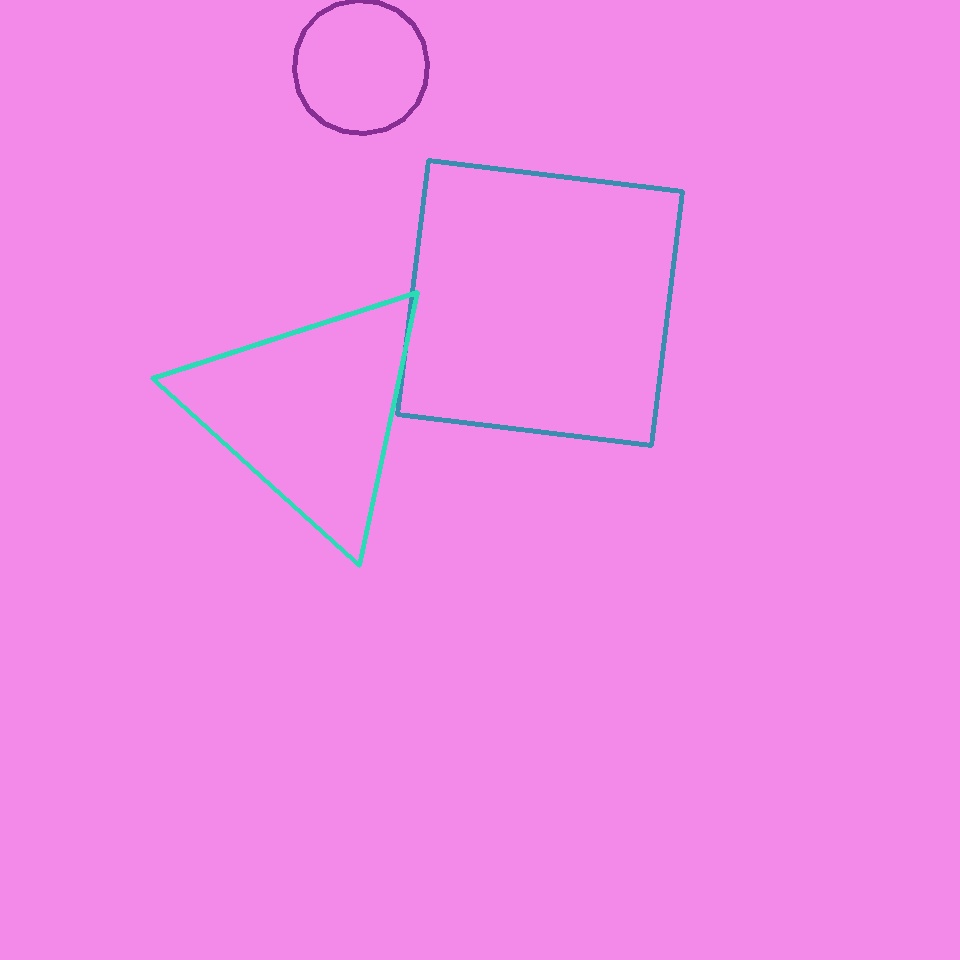circle: (178, 276, 442, 548)
square: (398, 160, 682, 446)
triangle: (294, 0, 428, 134)
